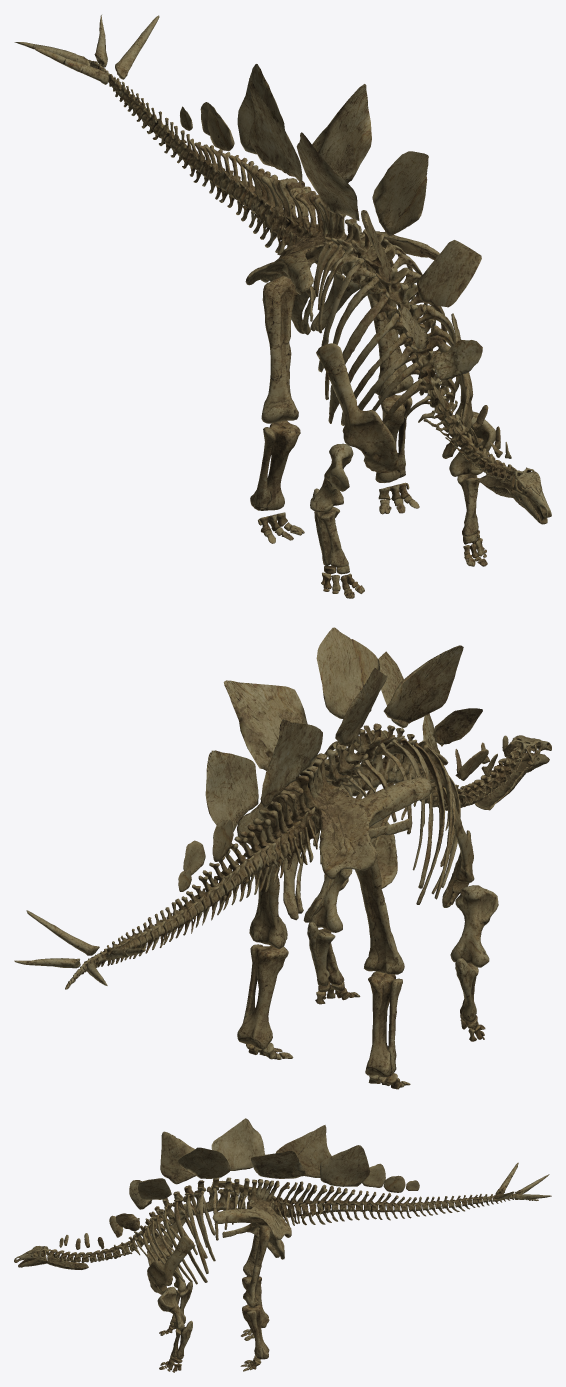
File: stego-optimized.glb
3 renders of one model, top to bottom at view 1: azimuth 30°, elevation 25°; view 2: azimuth 150°, elevation 25°; view 3: azimuth 270°, elevation 25°, orthographic. The views are drawn at different scales.
Parts seen in each view (by area): view 1: Object_5, Object_10, Object_9, Object_3, Object_7; view 2: Object_5, Object_10, Object_9, Object_3, Object_7; view 3: Object_5, Object_9, Object_10, Object_3, Object_7.
Part boxes in pixels (x1,y1,x2,y2): Object_5: [296, 84, 482, 425]; Object_10: [250, 272, 495, 598]; Object_9: [14, 15, 318, 255]; Object_3: [245, 194, 439, 334]; Object_7: [418, 389, 551, 524]; Object_5: [223, 627, 488, 904]; Object_10: [237, 779, 498, 1089]; Object_9: [14, 719, 322, 989]; Object_3: [237, 753, 431, 922]; Object_7: [413, 735, 551, 810]; Object_5: [109, 1118, 305, 1284]; Object_9: [272, 1125, 551, 1226]; Object_10: [147, 1203, 271, 1372]; Object_3: [212, 1179, 291, 1259]; Object_7: [14, 1233, 140, 1269].
Bounding box in the file's own units: 1.41 × 3.06 × 6.71.
Materials: 5 (5 with a texture image).
